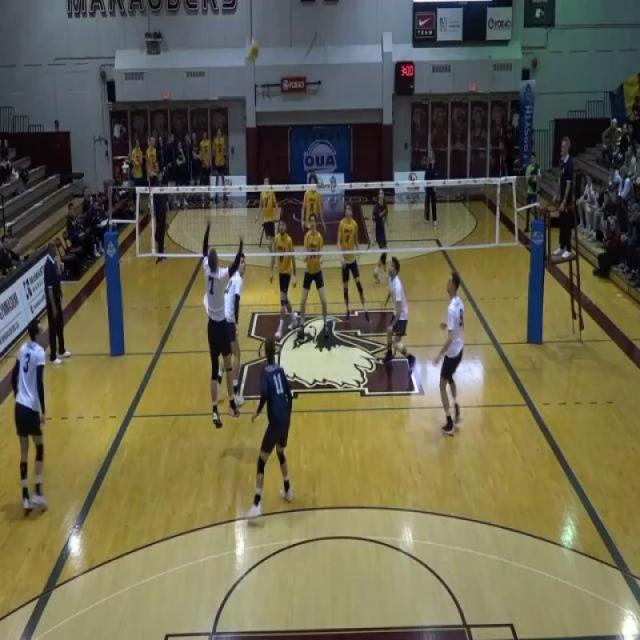volleyball: (247, 39, 260, 63)
